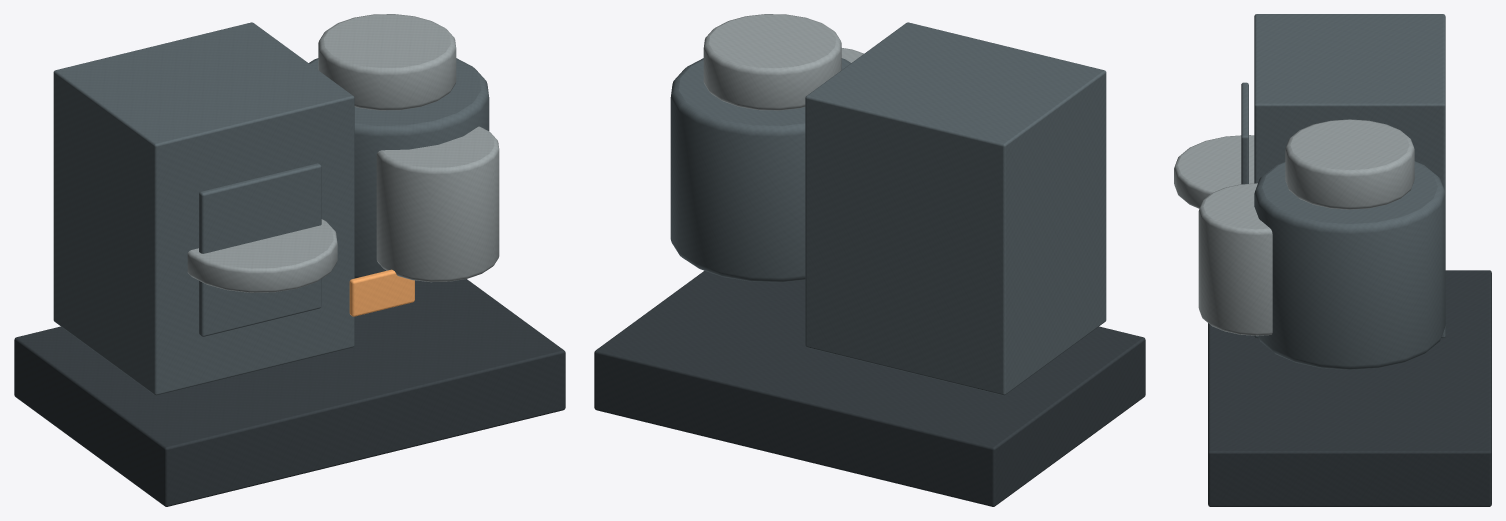
File: ReactorCoolantPump.glb
The picture shows the model from 3 angles, left to right: view 1: azimuth 30°, elevation 25°; view 2: azimuth 150°, elevation 25°; view 3: azimuth 270°, elevation 25°; orthographic projection. The views are drawn at different scales.
Visible parts, largest first — view 1: ReactorCoolantPump_Mesh; view 2: ReactorCoolantPump_Mesh; view 3: ReactorCoolantPump_Mesh.
Part boxes in pixels (left/top/right/bottom): ReactorCoolantPump_Mesh: left=14, top=14, right=565, bottom=506; ReactorCoolantPump_Mesh: left=594, top=14, right=1145, bottom=506; ReactorCoolantPump_Mesh: left=1174, top=14, right=1491, bottom=506.
Size of the model in its own units: 1.4 by 1.14 by 1.03.
Materials: 4 (4 with a texture image).
